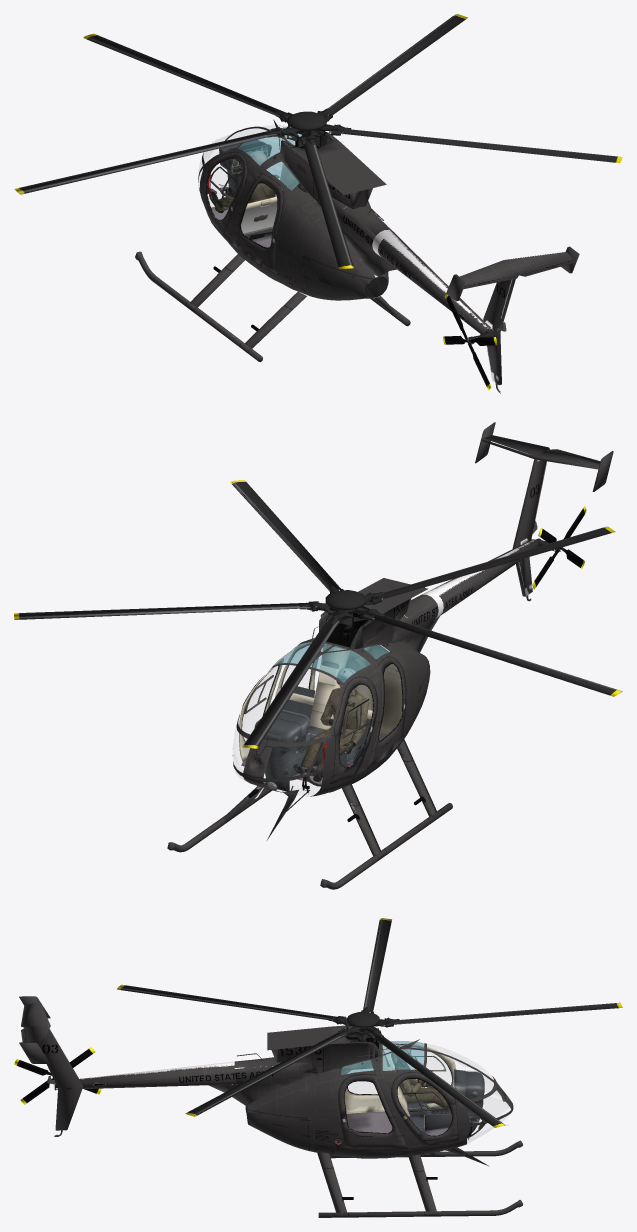
The picture shows the model from 3 angles, top to bottom: view 1: azimuth 30°, elevation 25°; view 2: azimuth 150°, elevation 25°; view 3: azimuth 270°, elevation 25°; orthographic projection. The views are drawn at different scales.
Visible parts, largest first — view 1: ext_fuse1, rotor_main, ext_fuse1_doors, ext_skids, glasss_grn, int_seats2, int_console, int_pilotR, rotor_tail; view 2: ext_fuse1, rotor_main, ext_fuse1_doors, ext_skids, int_pilotR, int_console, glasss_grn, int_fuse3, int_fuse5, int_seats2, glass, rotor_tail; view 3: ext_fuse1, rotor_main, ext_fuse1_doors, ext_skids, glass, int_console, glasss_grn, int_pilotR, int_fuse4, rotor_tail, int_fuse3, int_seats2.
Boxes of the visible parts, x1,y1,x2,y2 form: ext_fuse1: [198, 119, 579, 393]; rotor_main: [14, 14, 622, 269]; ext_fuse1_doors: [204, 152, 283, 273]; ext_skids: [135, 251, 410, 362]; glasss_grn: [238, 128, 301, 190]; int_seats2: [233, 196, 333, 239]; int_console: [206, 139, 271, 194]; int_pilotR: [209, 150, 277, 221]; rotor_tail: [443, 294, 497, 390]; ext_fuse1: [232, 422, 613, 840]; rotor_main: [14, 480, 622, 748]; ext_fuse1_doors: [239, 642, 406, 783]; ext_skids: [167, 739, 452, 889]; int_pilotR: [293, 668, 369, 781]; int_console: [254, 709, 327, 791]; glasss_grn: [274, 638, 389, 682]; int_fuse3: [309, 644, 370, 729]; int_fuse5: [326, 644, 402, 734]; int_seats2: [275, 686, 372, 767]; glass: [233, 665, 310, 781]; rotor_tail: [532, 506, 586, 589]; ext_fuse1: [19, 996, 513, 1166]; rotor_main: [117, 918, 622, 1127]; ext_fuse1_doors: [338, 1043, 458, 1149]; ext_skids: [317, 1140, 522, 1217]; glass: [348, 1044, 509, 1143]; int_console: [424, 1069, 484, 1132]; glasss_grn: [341, 1041, 424, 1074]; int_pilotR: [394, 1043, 449, 1108]; int_fuse4: [346, 1107, 448, 1135]; rotor_tail: [14, 1047, 101, 1104]; int_fuse3: [341, 1048, 409, 1116]; int_seats2: [407, 1101, 431, 1133].
Bounding box in the file's own units: 7.48 × 2.89 × 9.2.
12 materials, 12 textured.
